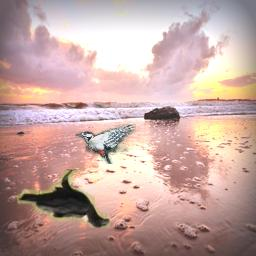Crow: (17, 169, 110, 228)
Woodpecker: (75, 124, 136, 164)
